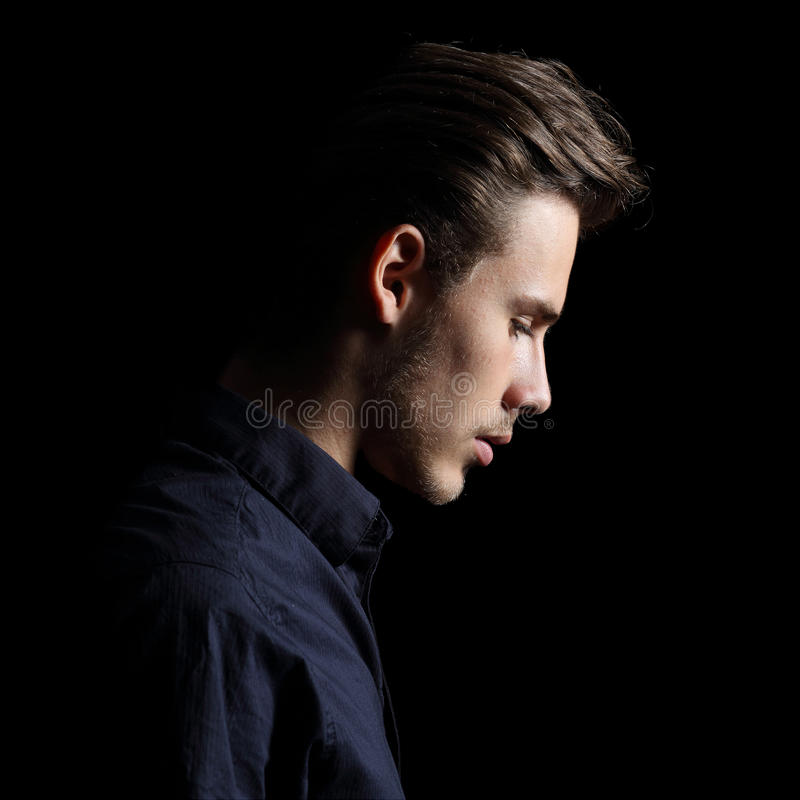sad: (366, 170, 602, 516)
